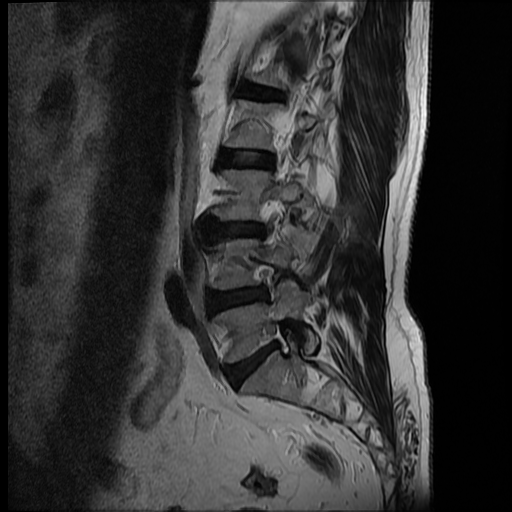RFS1: (250, 313, 301, 369), (245, 256, 296, 312)
